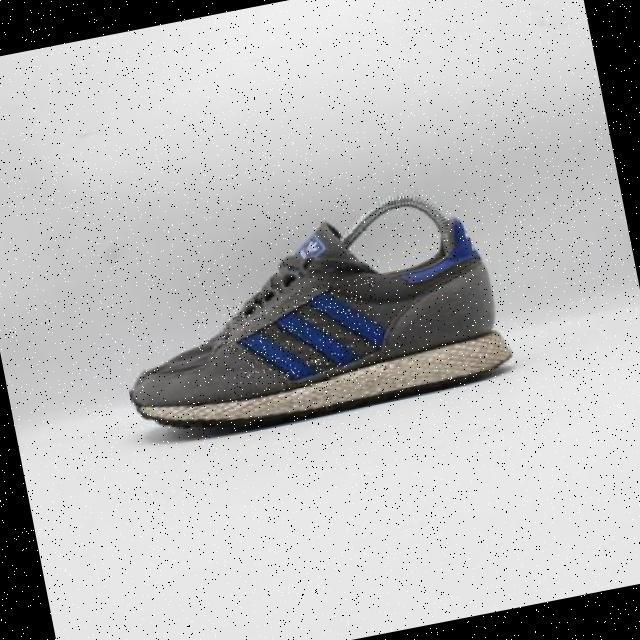Adidas: (216, 276, 392, 405)
